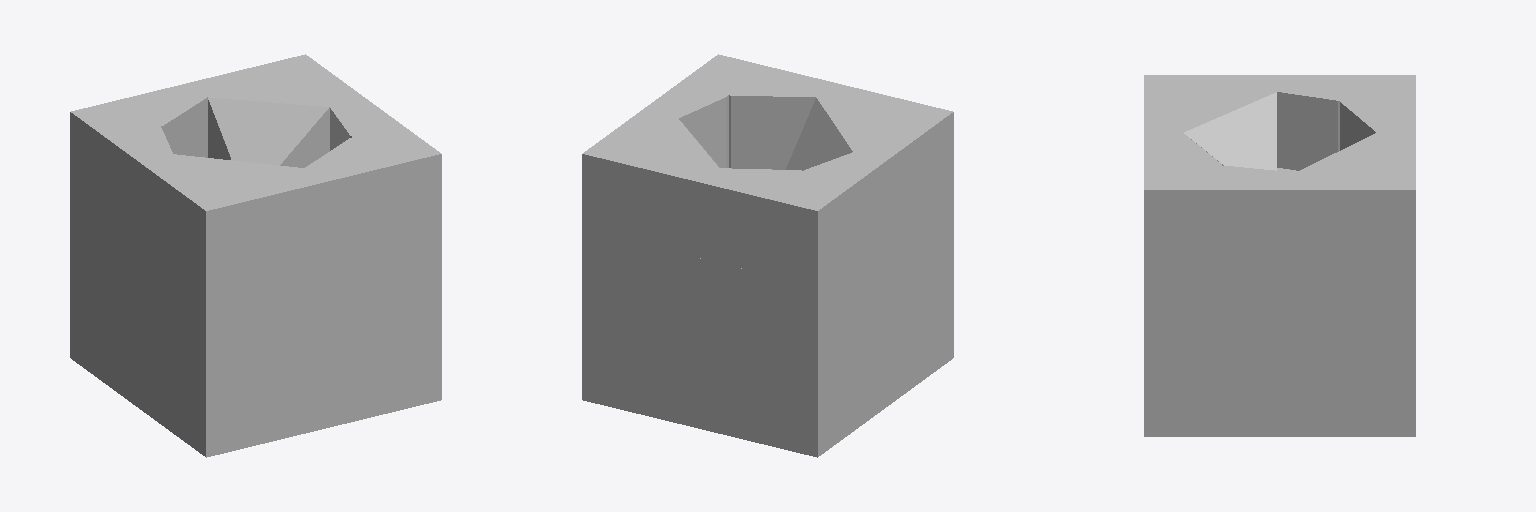
File: Circle_cube_bottle_preprocessed_convex.obj
The picture shows the model from 3 angles: view 1: azimuth 30°, elevation 25°; view 2: azimuth 150°, elevation 25°; view 3: azimuth 270°, elevation 25°; orthographic projection.
Visible parts, largest first — view 1: convex_0, convex_3, convex_1, convex_2, convex_4, convex_7, convex_6, convex_5; view 2: convex_1, convex_2, convex_0, convex_4, convex_6, convex_5, convex_7; view 3: convex_1, convex_3, convex_7, convex_0, convex_4, convex_5, convex_6.
Boxes of the visible parts, x1,y1,x2,y2 form: convex_0: [140, 154, 323, 457]; convex_3: [324, 230, 441, 428]; convex_1: [189, 54, 364, 167]; convex_2: [70, 188, 139, 408]; convex_4: [70, 99, 172, 237]; convex_7: [330, 98, 441, 241]; convex_6: [305, 137, 391, 257]; convex_5: [123, 83, 207, 157]; convex_1: [582, 110, 719, 428]; convex_2: [700, 237, 886, 457]; convex_0: [786, 83, 953, 406]; convex_4: [766, 152, 886, 286]; convex_6: [729, 67, 834, 169]; convex_5: [700, 168, 802, 273]; convex_7: [643, 54, 767, 167]; convex_1: [1296, 133, 1415, 436]; convex_3: [1144, 266, 1295, 436]; convex_7: [1144, 166, 1295, 265]; convex_0: [1144, 75, 1276, 170]; convex_4: [1277, 75, 1415, 170]; convex_5: [1340, 101, 1415, 150]; convex_6: [1144, 133, 1221, 165].
Bounding box in the file's own units: 0.0808 × 0.0808 × 0.0808.